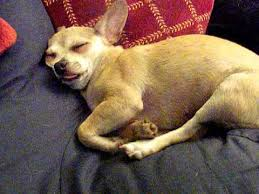chihuahua: (44, 1, 259, 160)
